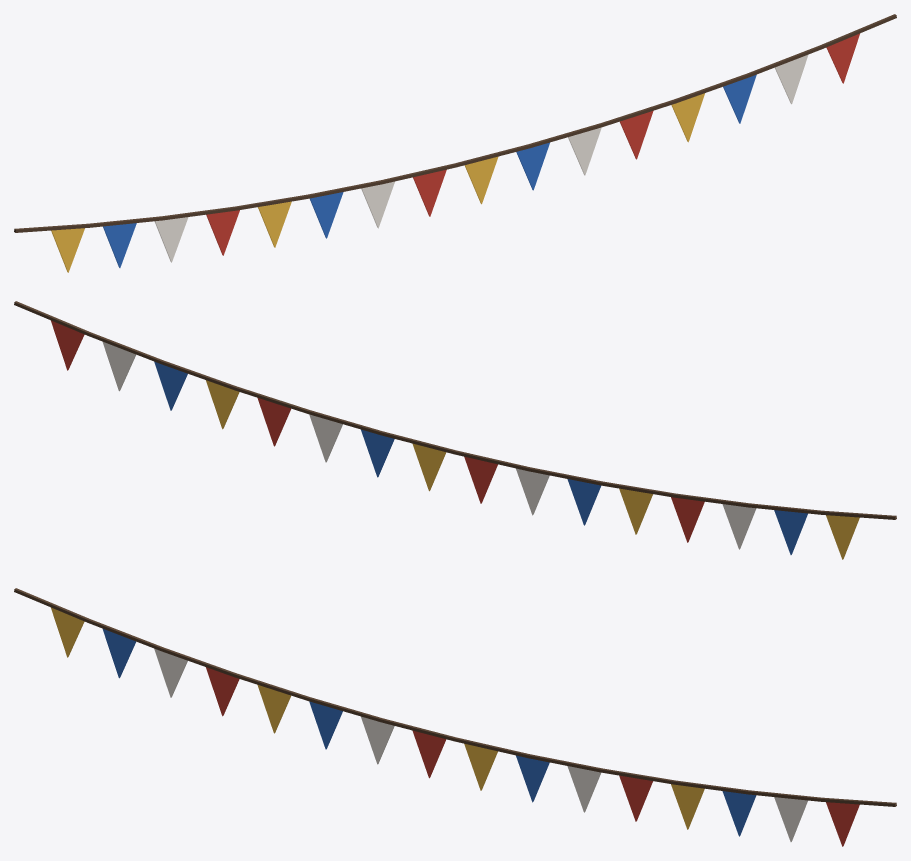
Rendered from CatCafe_Square_RallyBunting.glb.
3 views of the same model, one above another, from view 1: azimuth 30°, elevation 25°; view 2: azimuth 150°, elevation 25°; view 3: azimuth 330°, elevation 25° (orthographic).
Parts seen in each view (by area): view 1: CatCafe_Square_RallyBunting, CatCafe_Square_RallyBunting_Flag16_Pennant, CatCafe_Square_RallyBunting_Flag12_Pennant, CatCafe_Square_RallyBunting_Flag08_Pennant, CatCafe_Square_RallyBunting_Flag09_Pennant, CatCafe_Square_RallyBunting_Flag15_Pennant, CatCafe_Square_RallyBunting_Flag05_Pennant, CatCafe_Square_RallyBunting_Flag13_Pennant, CatCafe_Square_RallyBunting_Flag14_Pennant, CatCafe_Square_RallyBunting_Flag02_Pennant, CatCafe_Square_RallyBunting_Flag06_Pennant, CatCafe_Square_RallyBunting_Flag11_Pennant (+5 smaller); view 2: CatCafe_Square_RallyBunting, CatCafe_Square_RallyBunting_Flag16_Pennant, CatCafe_Square_RallyBunting_Flag12_Pennant, CatCafe_Square_RallyBunting_Flag08_Pennant, CatCafe_Square_RallyBunting_Flag09_Pennant, CatCafe_Square_RallyBunting_Flag15_Pennant, CatCafe_Square_RallyBunting_Flag05_Pennant, CatCafe_Square_RallyBunting_Flag13_Pennant, CatCafe_Square_RallyBunting_Flag14_Pennant, CatCafe_Square_RallyBunting_Flag02_Pennant, CatCafe_Square_RallyBunting_Flag06_Pennant, CatCafe_Square_RallyBunting_Flag11_Pennant (+5 smaller); view 3: CatCafe_Square_RallyBunting, CatCafe_Square_RallyBunting_Flag01_Pennant, CatCafe_Square_RallyBunting_Flag05_Pennant, CatCafe_Square_RallyBunting_Flag09_Pennant, CatCafe_Square_RallyBunting_Flag02_Pennant, CatCafe_Square_RallyBunting_Flag08_Pennant, CatCafe_Square_RallyBunting_Flag04_Pennant, CatCafe_Square_RallyBunting_Flag12_Pennant, CatCafe_Square_RallyBunting_Flag03_Pennant, CatCafe_Square_RallyBunting_Flag06_Pennant, CatCafe_Square_RallyBunting_Flag11_Pennant, CatCafe_Square_RallyBunting_Flag15_Pennant (+5 smaller).
Part boxes in pixels (box(x1,y1,x2,y2)): CatCafe_Square_RallyBunting: box(14, 14, 896, 232); CatCafe_Square_RallyBunting_Flag16_Pennant: box(51, 228, 84, 272); CatCafe_Square_RallyBunting_Flag12_Pennant: box(258, 201, 291, 247); CatCafe_Square_RallyBunting_Flag08_Pennant: box(464, 156, 498, 204); CatCafe_Square_RallyBunting_Flag09_Pennant: box(413, 169, 446, 216); CatCafe_Square_RallyBunting_Flag15_Pennant: box(103, 223, 136, 267); CatCafe_Square_RallyBunting_Flag05_Pennant: box(620, 110, 653, 159); CatCafe_Square_RallyBunting_Flag13_Pennant: box(206, 210, 239, 255); CatCafe_Square_RallyBunting_Flag14_Pennant: box(154, 217, 188, 262); CatCafe_Square_RallyBunting_Flag02_Pennant: box(775, 55, 808, 104); CatCafe_Square_RallyBunting_Flag06_Pennant: box(568, 127, 601, 175); CatCafe_Square_RallyBunting_Flag11_Pennant: box(310, 192, 343, 238); CatCafe_Square_RallyBunting: box(14, 301, 896, 519); CatCafe_Square_RallyBunting_Flag16_Pennant: box(826, 515, 859, 559); CatCafe_Square_RallyBunting_Flag12_Pennant: box(619, 488, 652, 534); CatCafe_Square_RallyBunting_Flag08_Pennant: box(412, 443, 446, 491); CatCafe_Square_RallyBunting_Flag09_Pennant: box(464, 456, 497, 503); CatCafe_Square_RallyBunting_Flag15_Pennant: box(774, 510, 807, 554); CatCafe_Square_RallyBunting_Flag05_Pennant: box(257, 397, 290, 446); CatCafe_Square_RallyBunting_Flag13_Pennant: box(671, 497, 704, 542); CatCafe_Square_RallyBunting_Flag14_Pennant: box(722, 504, 756, 549); CatCafe_Square_RallyBunting_Flag02_Pennant: box(102, 342, 135, 391); CatCafe_Square_RallyBunting_Flag06_Pennant: box(309, 414, 342, 462); CatCafe_Square_RallyBunting_Flag11_Pennant: box(567, 479, 600, 525); CatCafe_Square_RallyBunting: box(14, 588, 896, 806); CatCafe_Square_RallyBunting_Flag01_Pennant: box(826, 802, 859, 846); CatCafe_Square_RallyBunting_Flag05_Pennant: box(619, 775, 652, 821); CatCafe_Square_RallyBunting_Flag09_Pennant: box(412, 730, 446, 778); CatCafe_Square_RallyBunting_Flag02_Pennant: box(774, 797, 807, 841); CatCafe_Square_RallyBunting_Flag08_Pennant: box(464, 743, 497, 790); CatCafe_Square_RallyBunting_Flag04_Pennant: box(671, 784, 704, 829); CatCafe_Square_RallyBunting_Flag12_Pennant: box(257, 684, 290, 733); CatCafe_Square_RallyBunting_Flag03_Pennant: box(722, 791, 756, 836); CatCafe_Square_RallyBunting_Flag06_Pennant: box(567, 766, 600, 812); CatCafe_Square_RallyBunting_Flag11_Pennant: box(309, 701, 342, 749); CatCafe_Square_RallyBunting_Flag15_Pennant: box(102, 629, 135, 678).
Bounding box in the file's own units: 22.06 × 2.11 × 0.07.
1 material, 1 textured.
